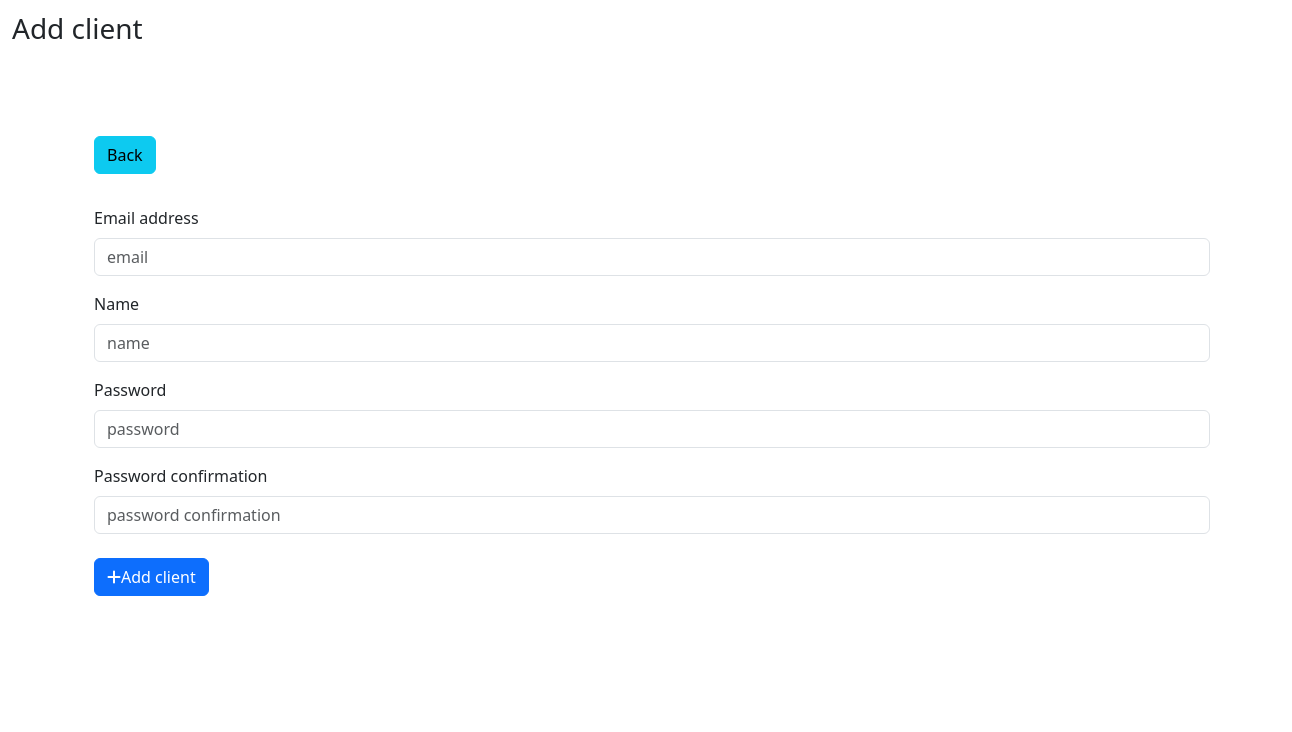
User edit page › Interactions validation errors › add client with errors
Step 1. Type "aaaabb@example.com" into the field with placeholder "Email" → (652, 257), box [94,238,1210,276]
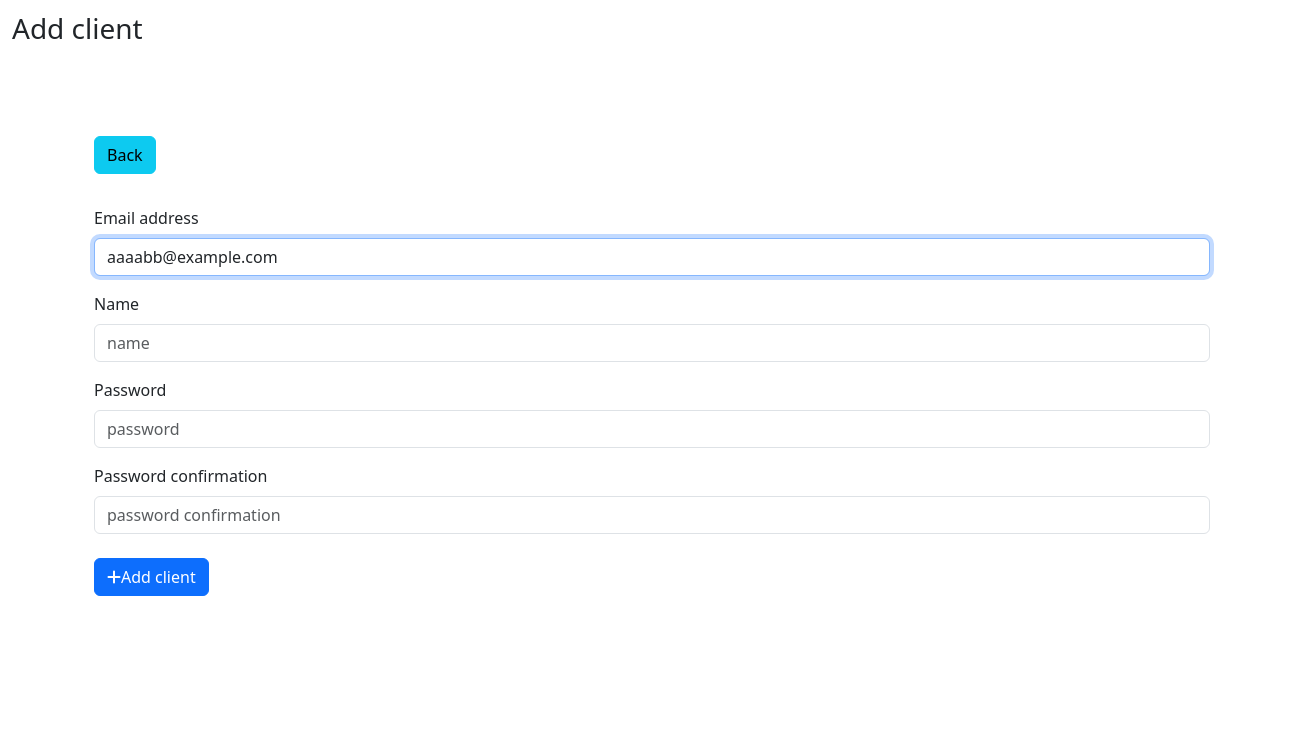
Step 2. Type "aaaaaaaaaaaaa" into the field with placeholder "Name" → (652, 343), box [94,324,1210,362]
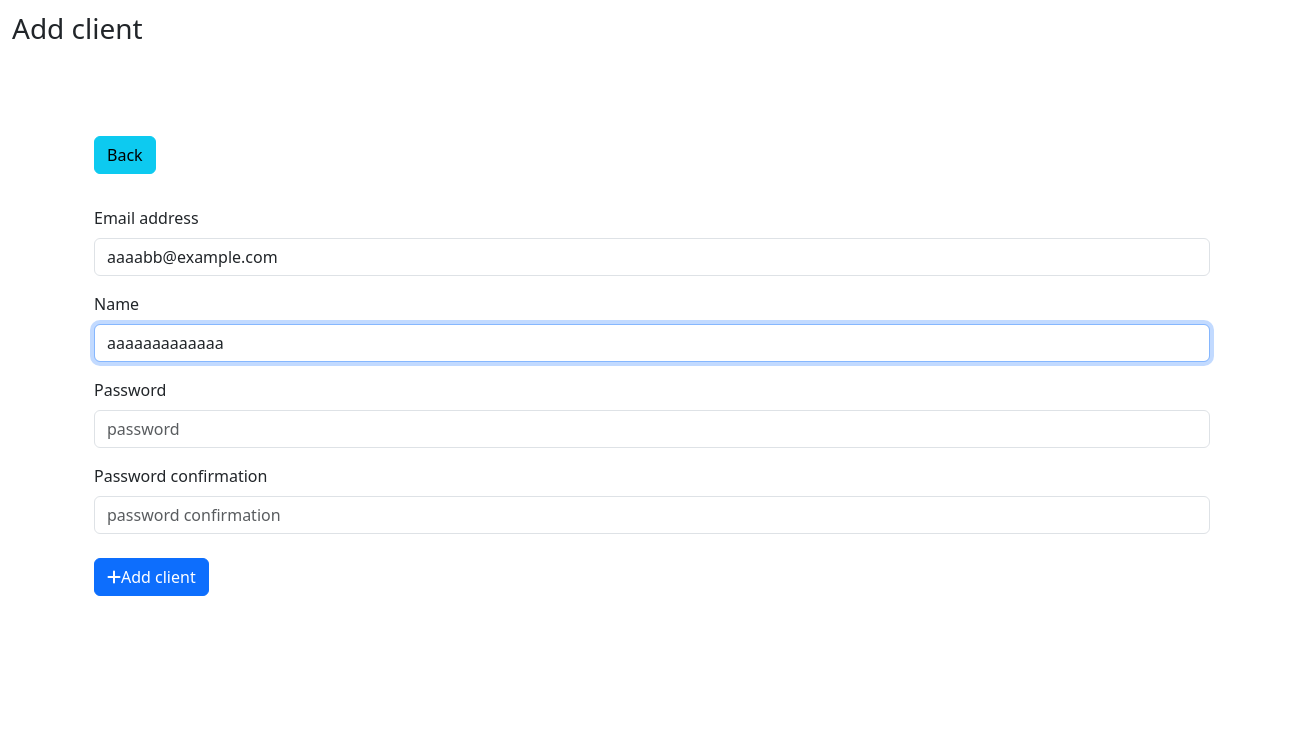
Step 3. Type "abc" into the password field with placeholder "Password" → (652, 429), box [94,410,1210,448]
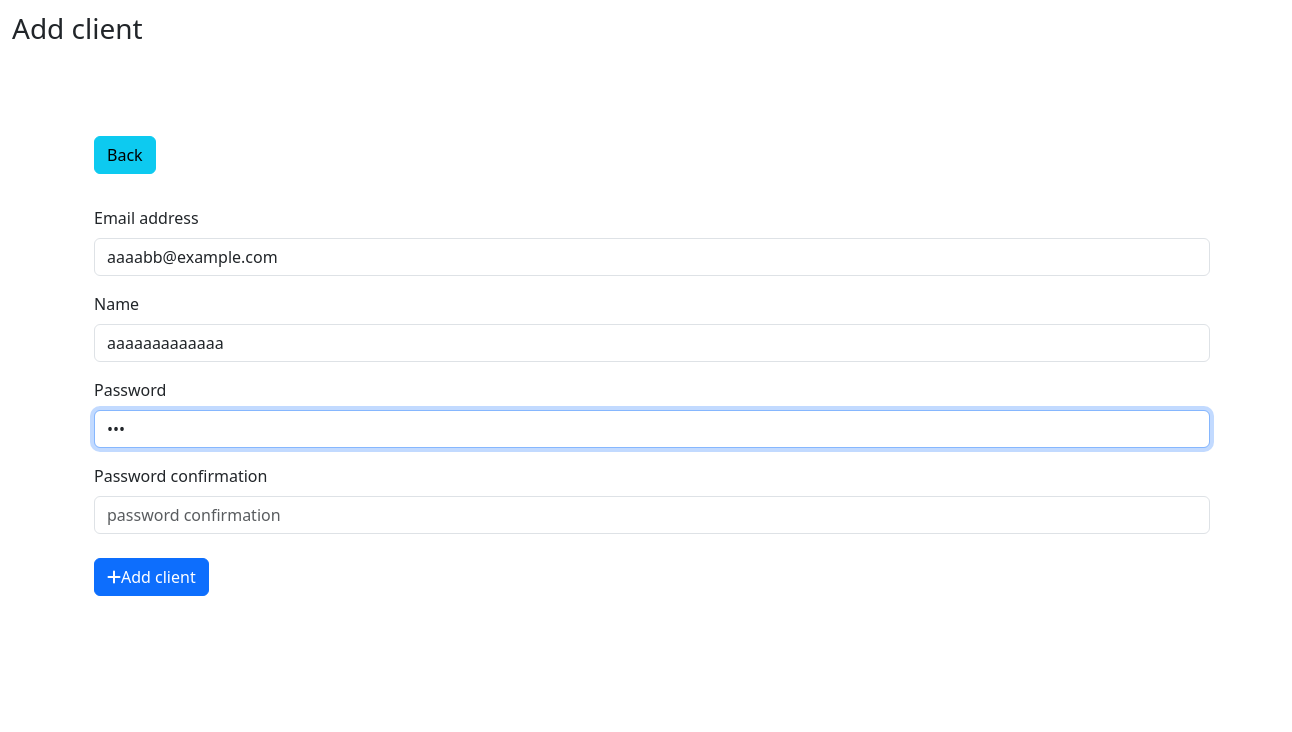
Step 4. Type "abc" into the password field with placeholder "Password confirmation" → (652, 515), box [94,496,1210,534]
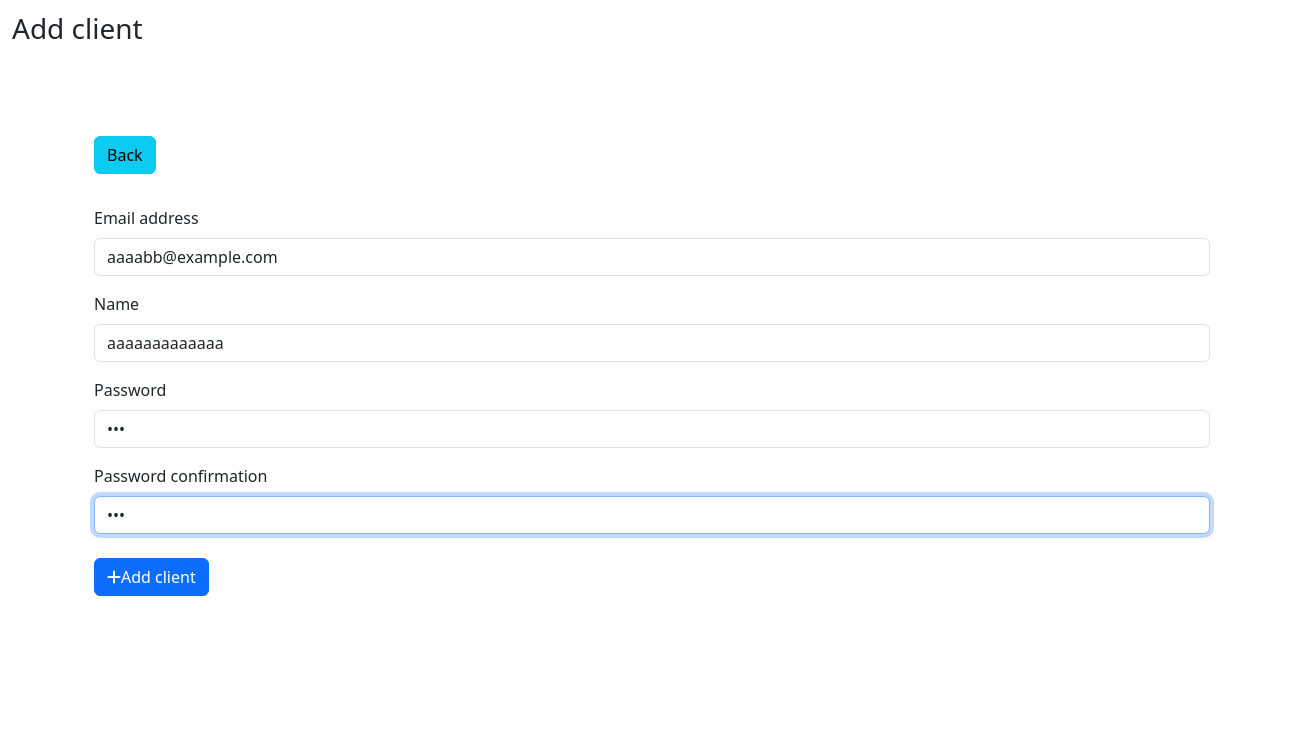
Step 5. Click the button "Add client" → (151, 577), box [94,558,209,596]
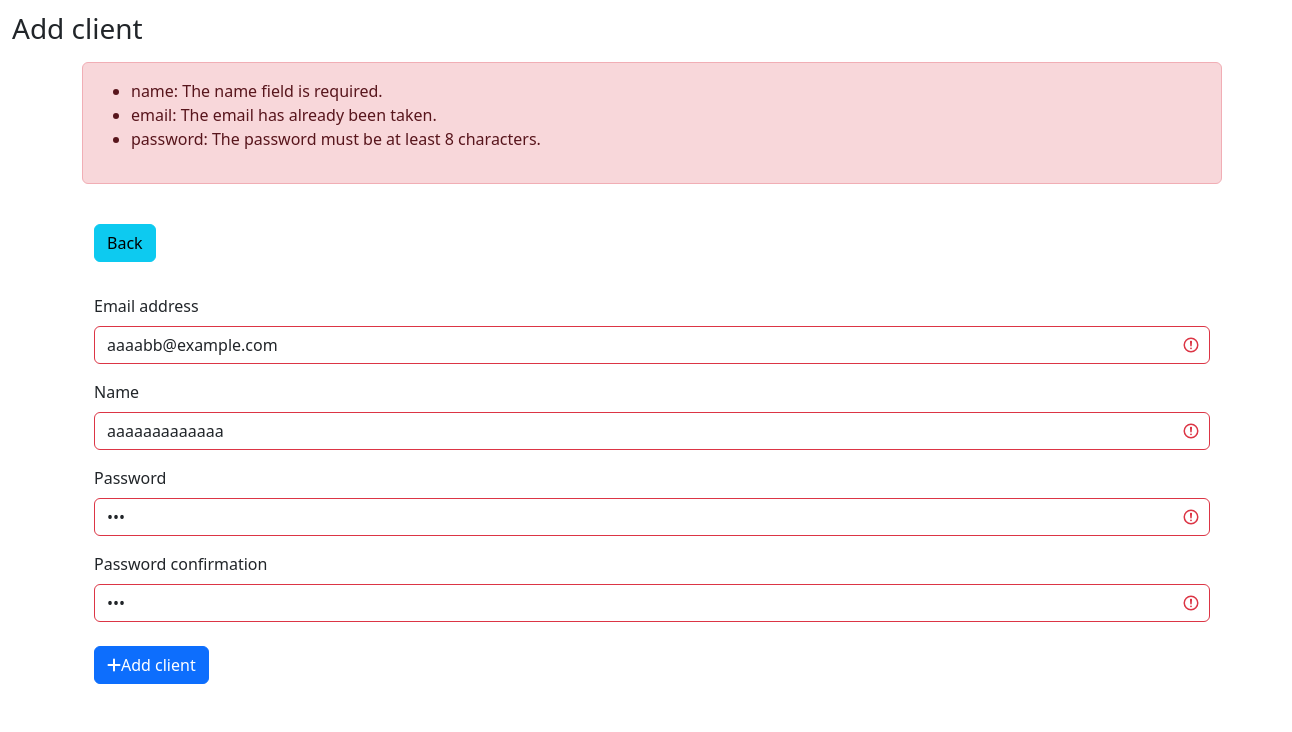
Expected: the element that starts with "name: The name field is required." is shown, [82,62,1222,184]
